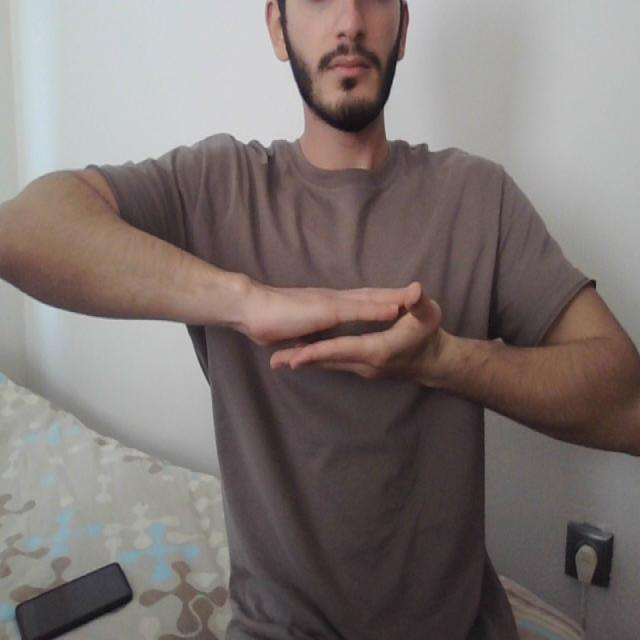Arkadas: (202, 230, 509, 403)
